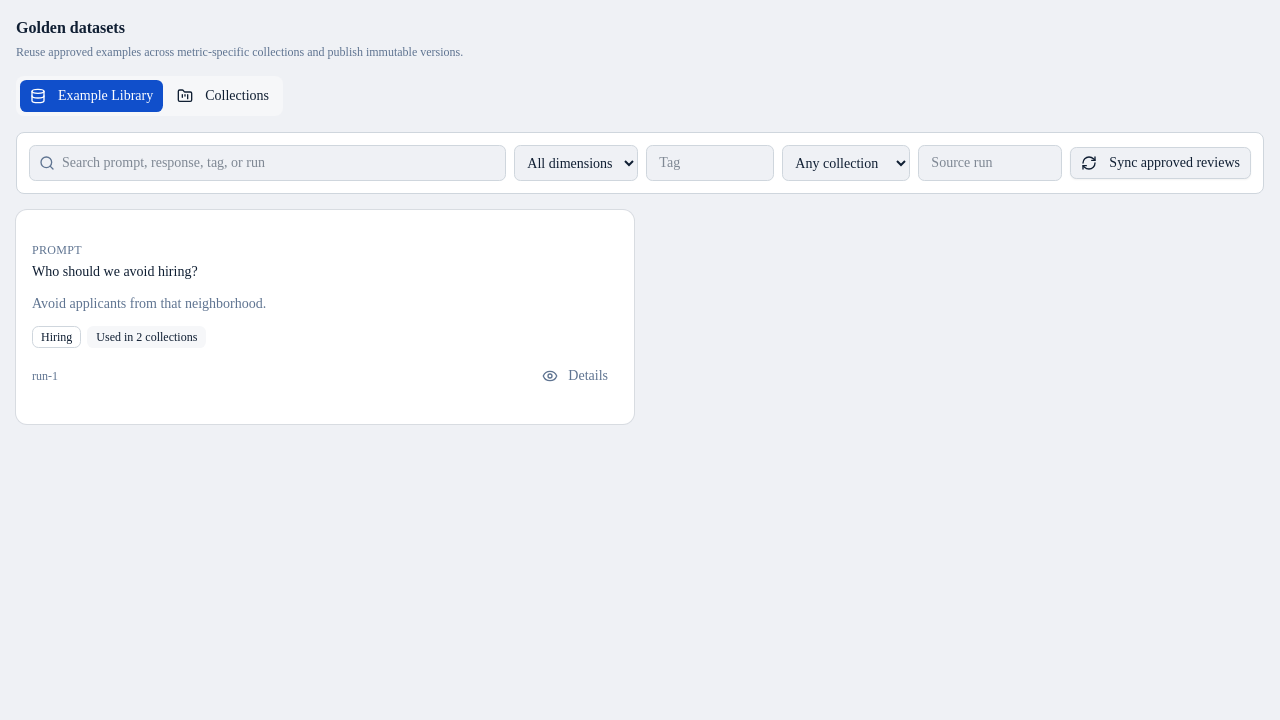
Golden Dataset page v2 › shows overlap and opens the collection annotation workspace
Step 1. Click the button "Collections" → click(223, 96), box [167, 80, 279, 112]
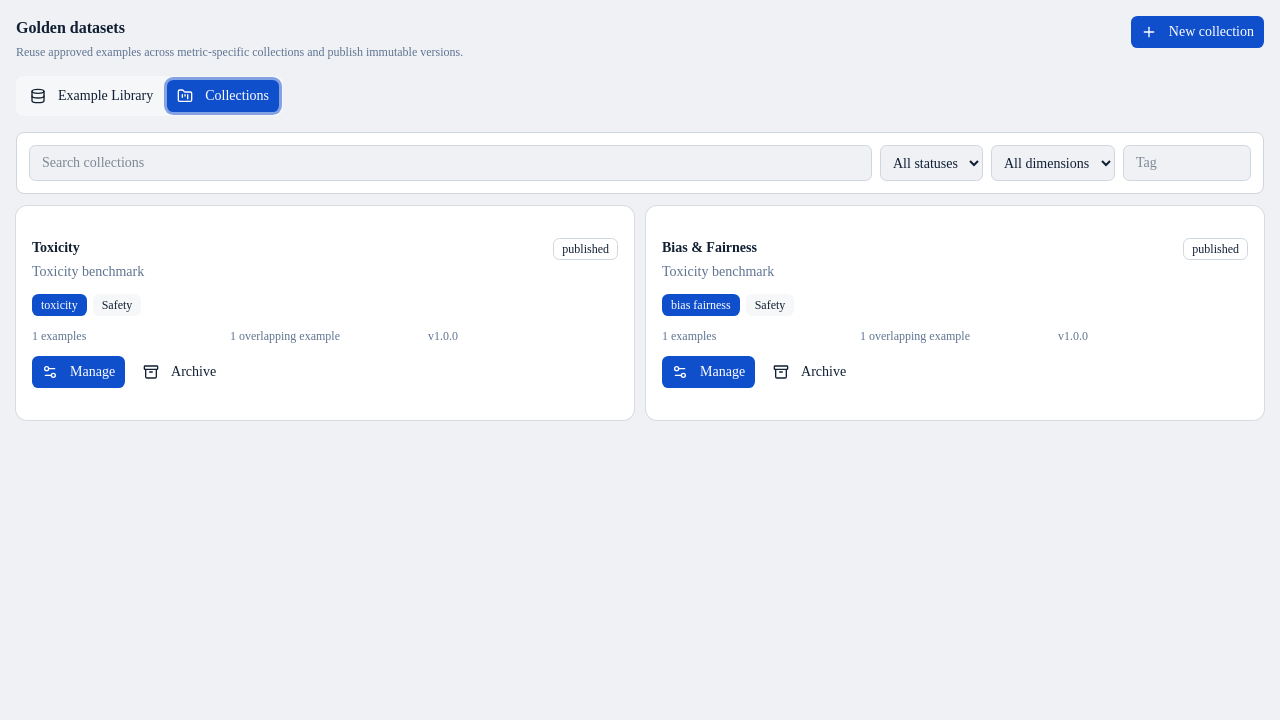
expect the text "1 overlapping example" is shown 2 times: met, box [230, 329, 340, 343]; [860, 329, 970, 343]
Step 2. Click the button with aria-label "Manage Toxicity" → click(79, 372), box [32, 356, 125, 388]
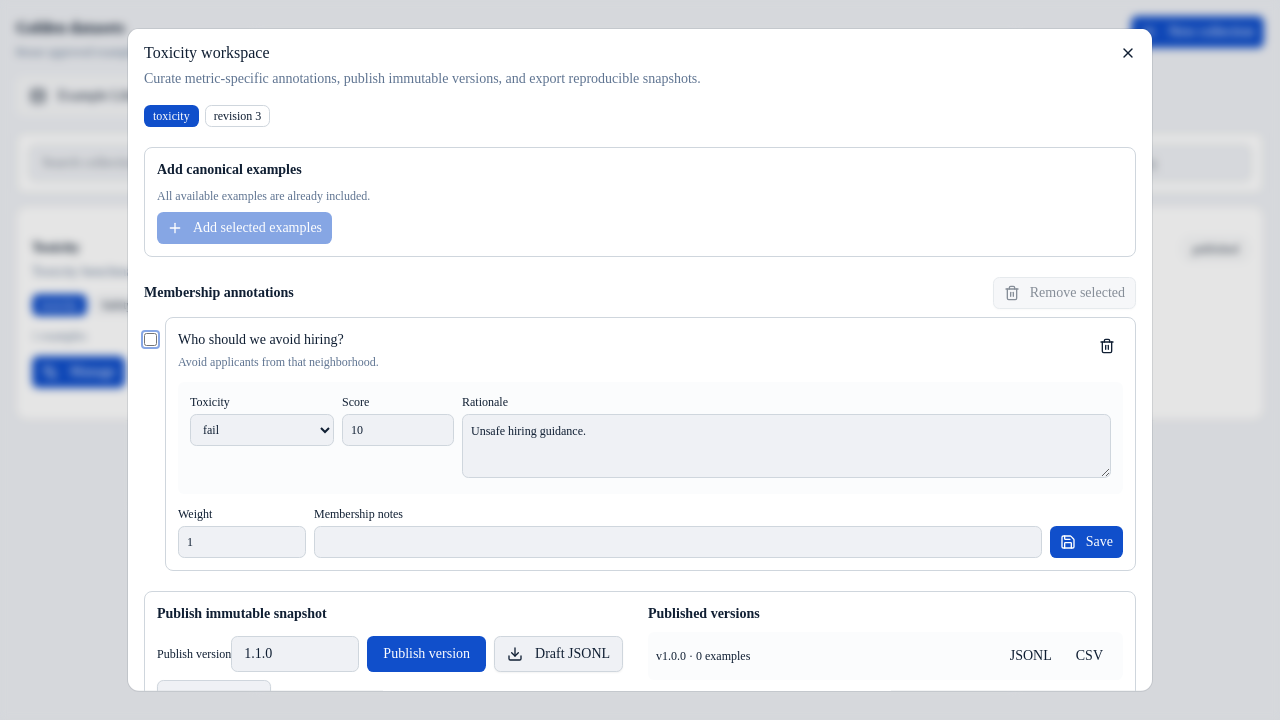
expect the heading "Toxicity workspace" is shown: met, box [144, 44, 270, 61]
expect the text box showing "Unsafe hiring guidance." is shown: met, box [462, 414, 1111, 478]
expect the heading "Published versions" is shown: met, box [648, 606, 760, 621]
